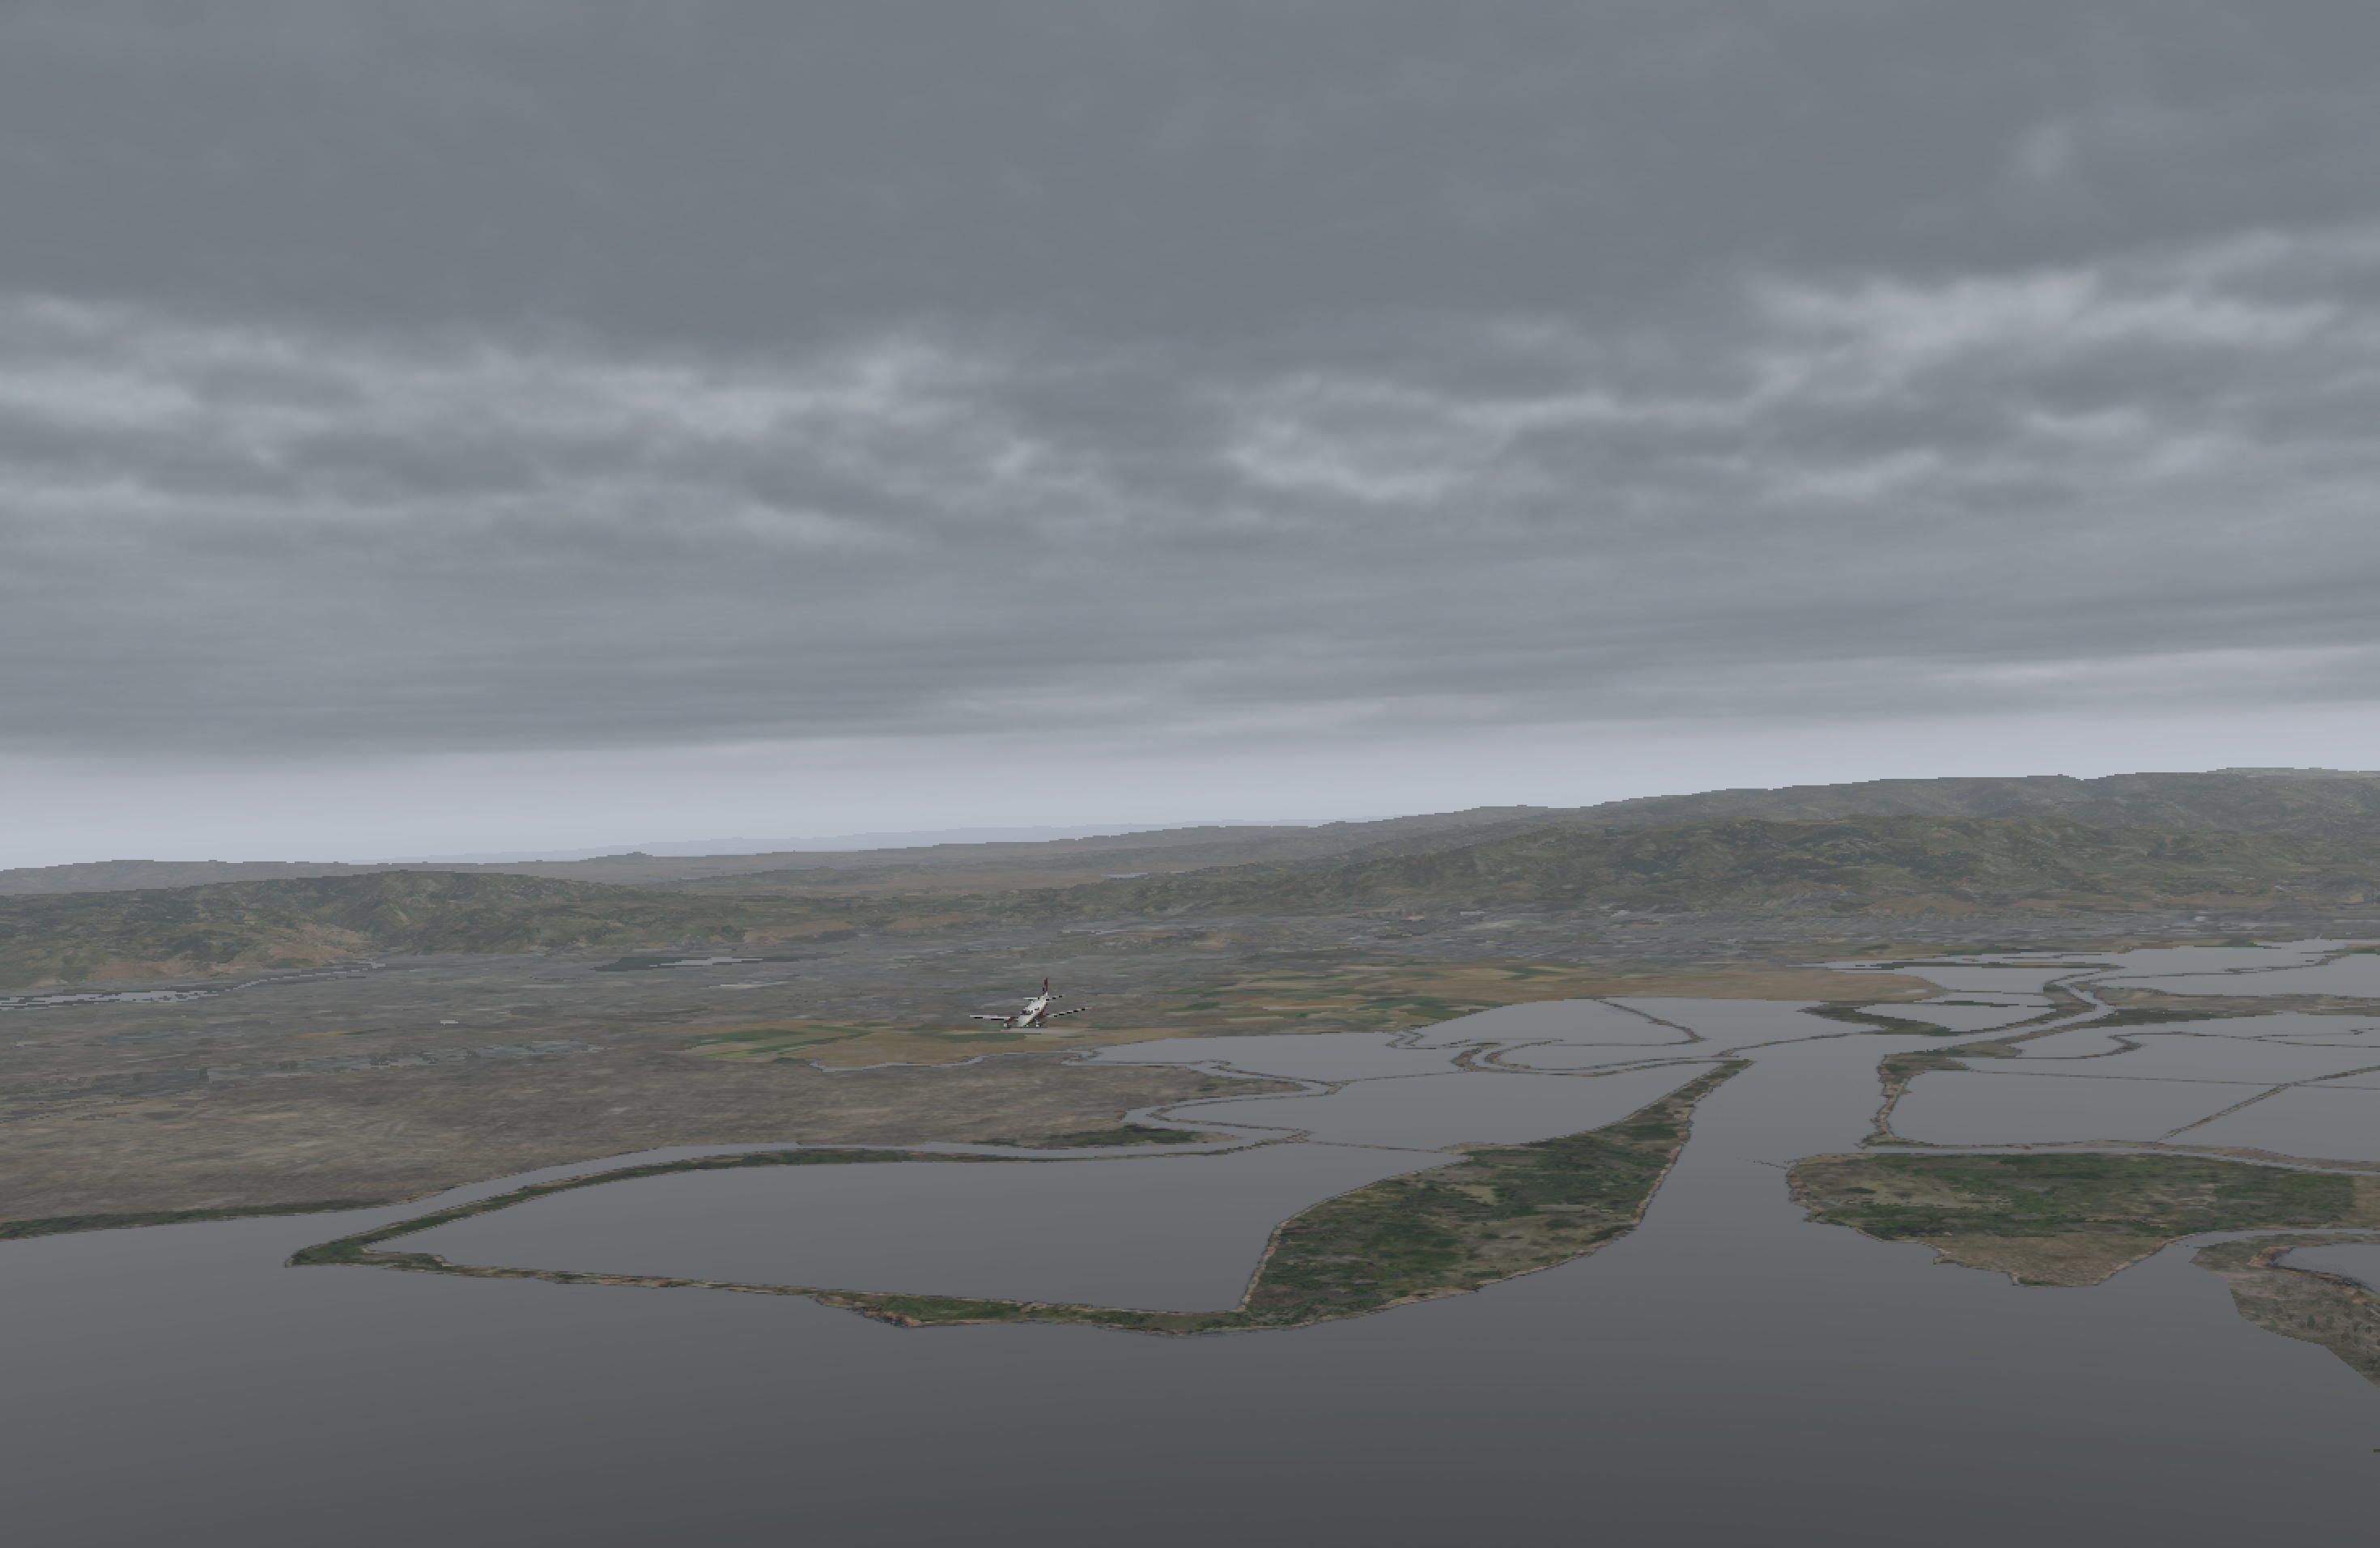aircraft: (963, 996, 1096, 1046)
